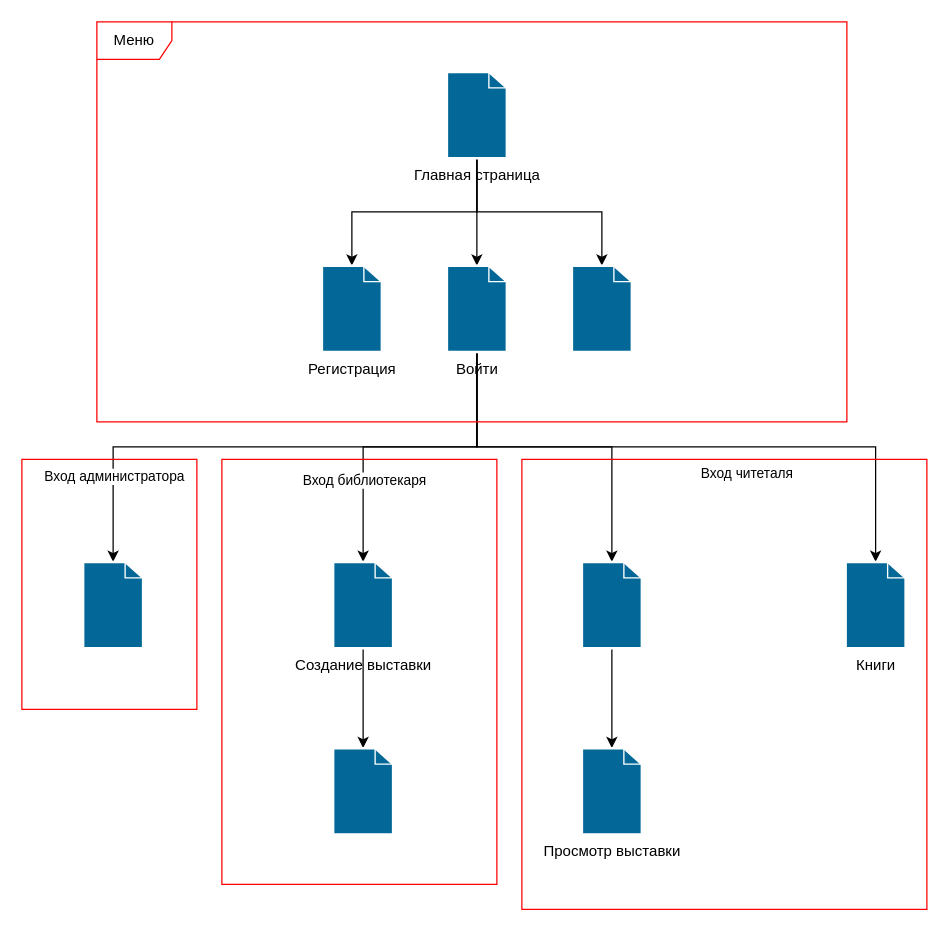
Image size: 949x931. Some labels were removed from this diagram. The centre of each missing label's shape, as x and y in pixels:
Админ панель: point 112,604
Выйти: point 601,308
Выставки: point 611,604
Редактирование выставки: point 362,790
